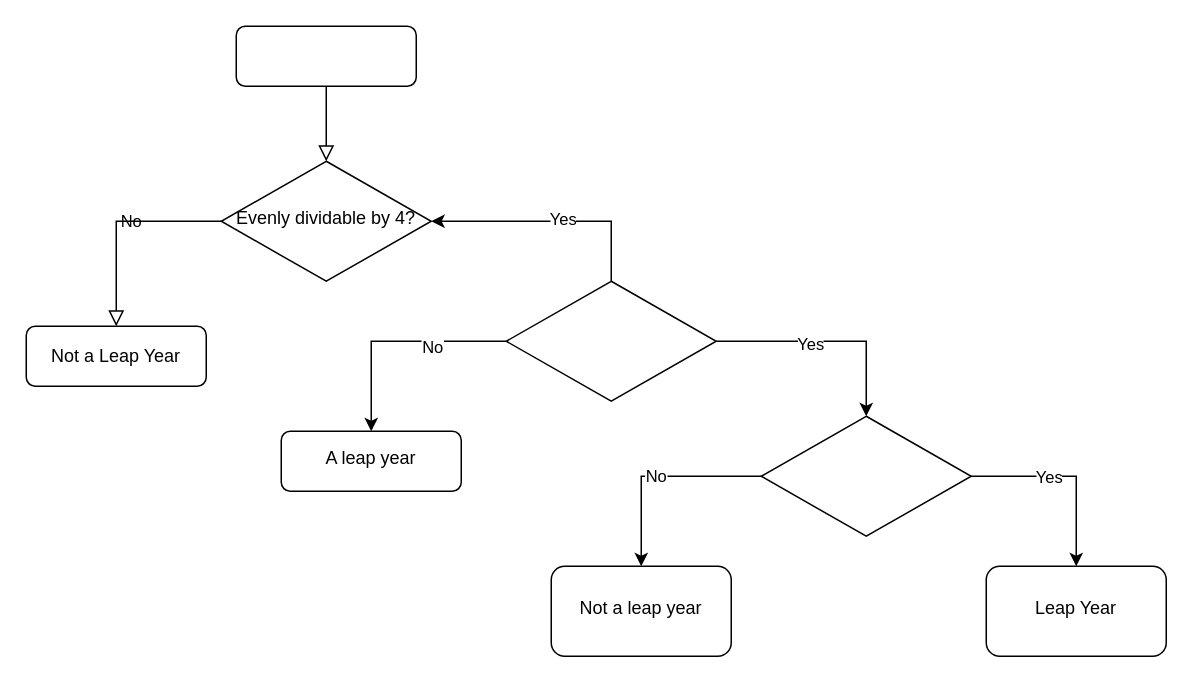
Some shapes in this 1193 by 683 pixel diagram are drawn without their labels. The shapes that lost their labels are listed below. From the top down, each one's centre as x and y in pixels, then its label:
point (325, 55): Start
point (610, 340): Evenly dividable by 100?
point (865, 475): Evenly dividable by 400?
